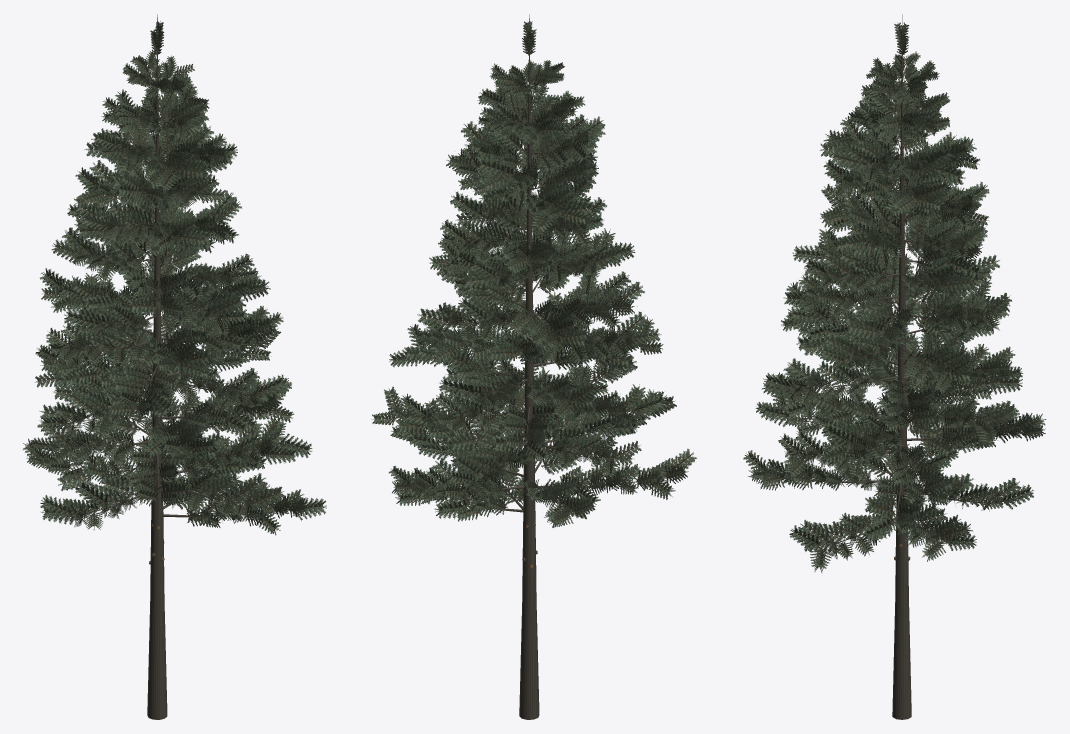
The model's file is Sitka_Pole_01_LowPruned_Recent_LOD0.fbx.
3 renders of one model, left to right at view 1: azimuth 30°, elevation 25°; view 2: azimuth 150°, elevation 25°; view 3: azimuth 270°, elevation 25°, orthographic.
Parts seen in each view (by area): view 1: Sitka_Pole_01_LowPruned_Recent_LOD0; view 2: Sitka_Pole_01_LowPruned_Recent_LOD0; view 3: Sitka_Pole_01_LowPruned_Recent_LOD0.
Boxes of the visible parts, left/top/right/bottom form: Sitka_Pole_01_LowPruned_Recent_LOD0: left=23, top=14, right=326, bottom=719; Sitka_Pole_01_LowPruned_Recent_LOD0: left=371, top=14, right=696, bottom=719; Sitka_Pole_01_LowPruned_Recent_LOD0: left=743, top=14, right=1046, bottom=719.
Bounding box in the file's own units: 349 × 800 × 331.
3 materials, 3 textured.
